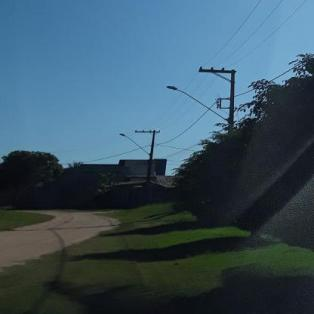Poste: (225, 64, 242, 140)
